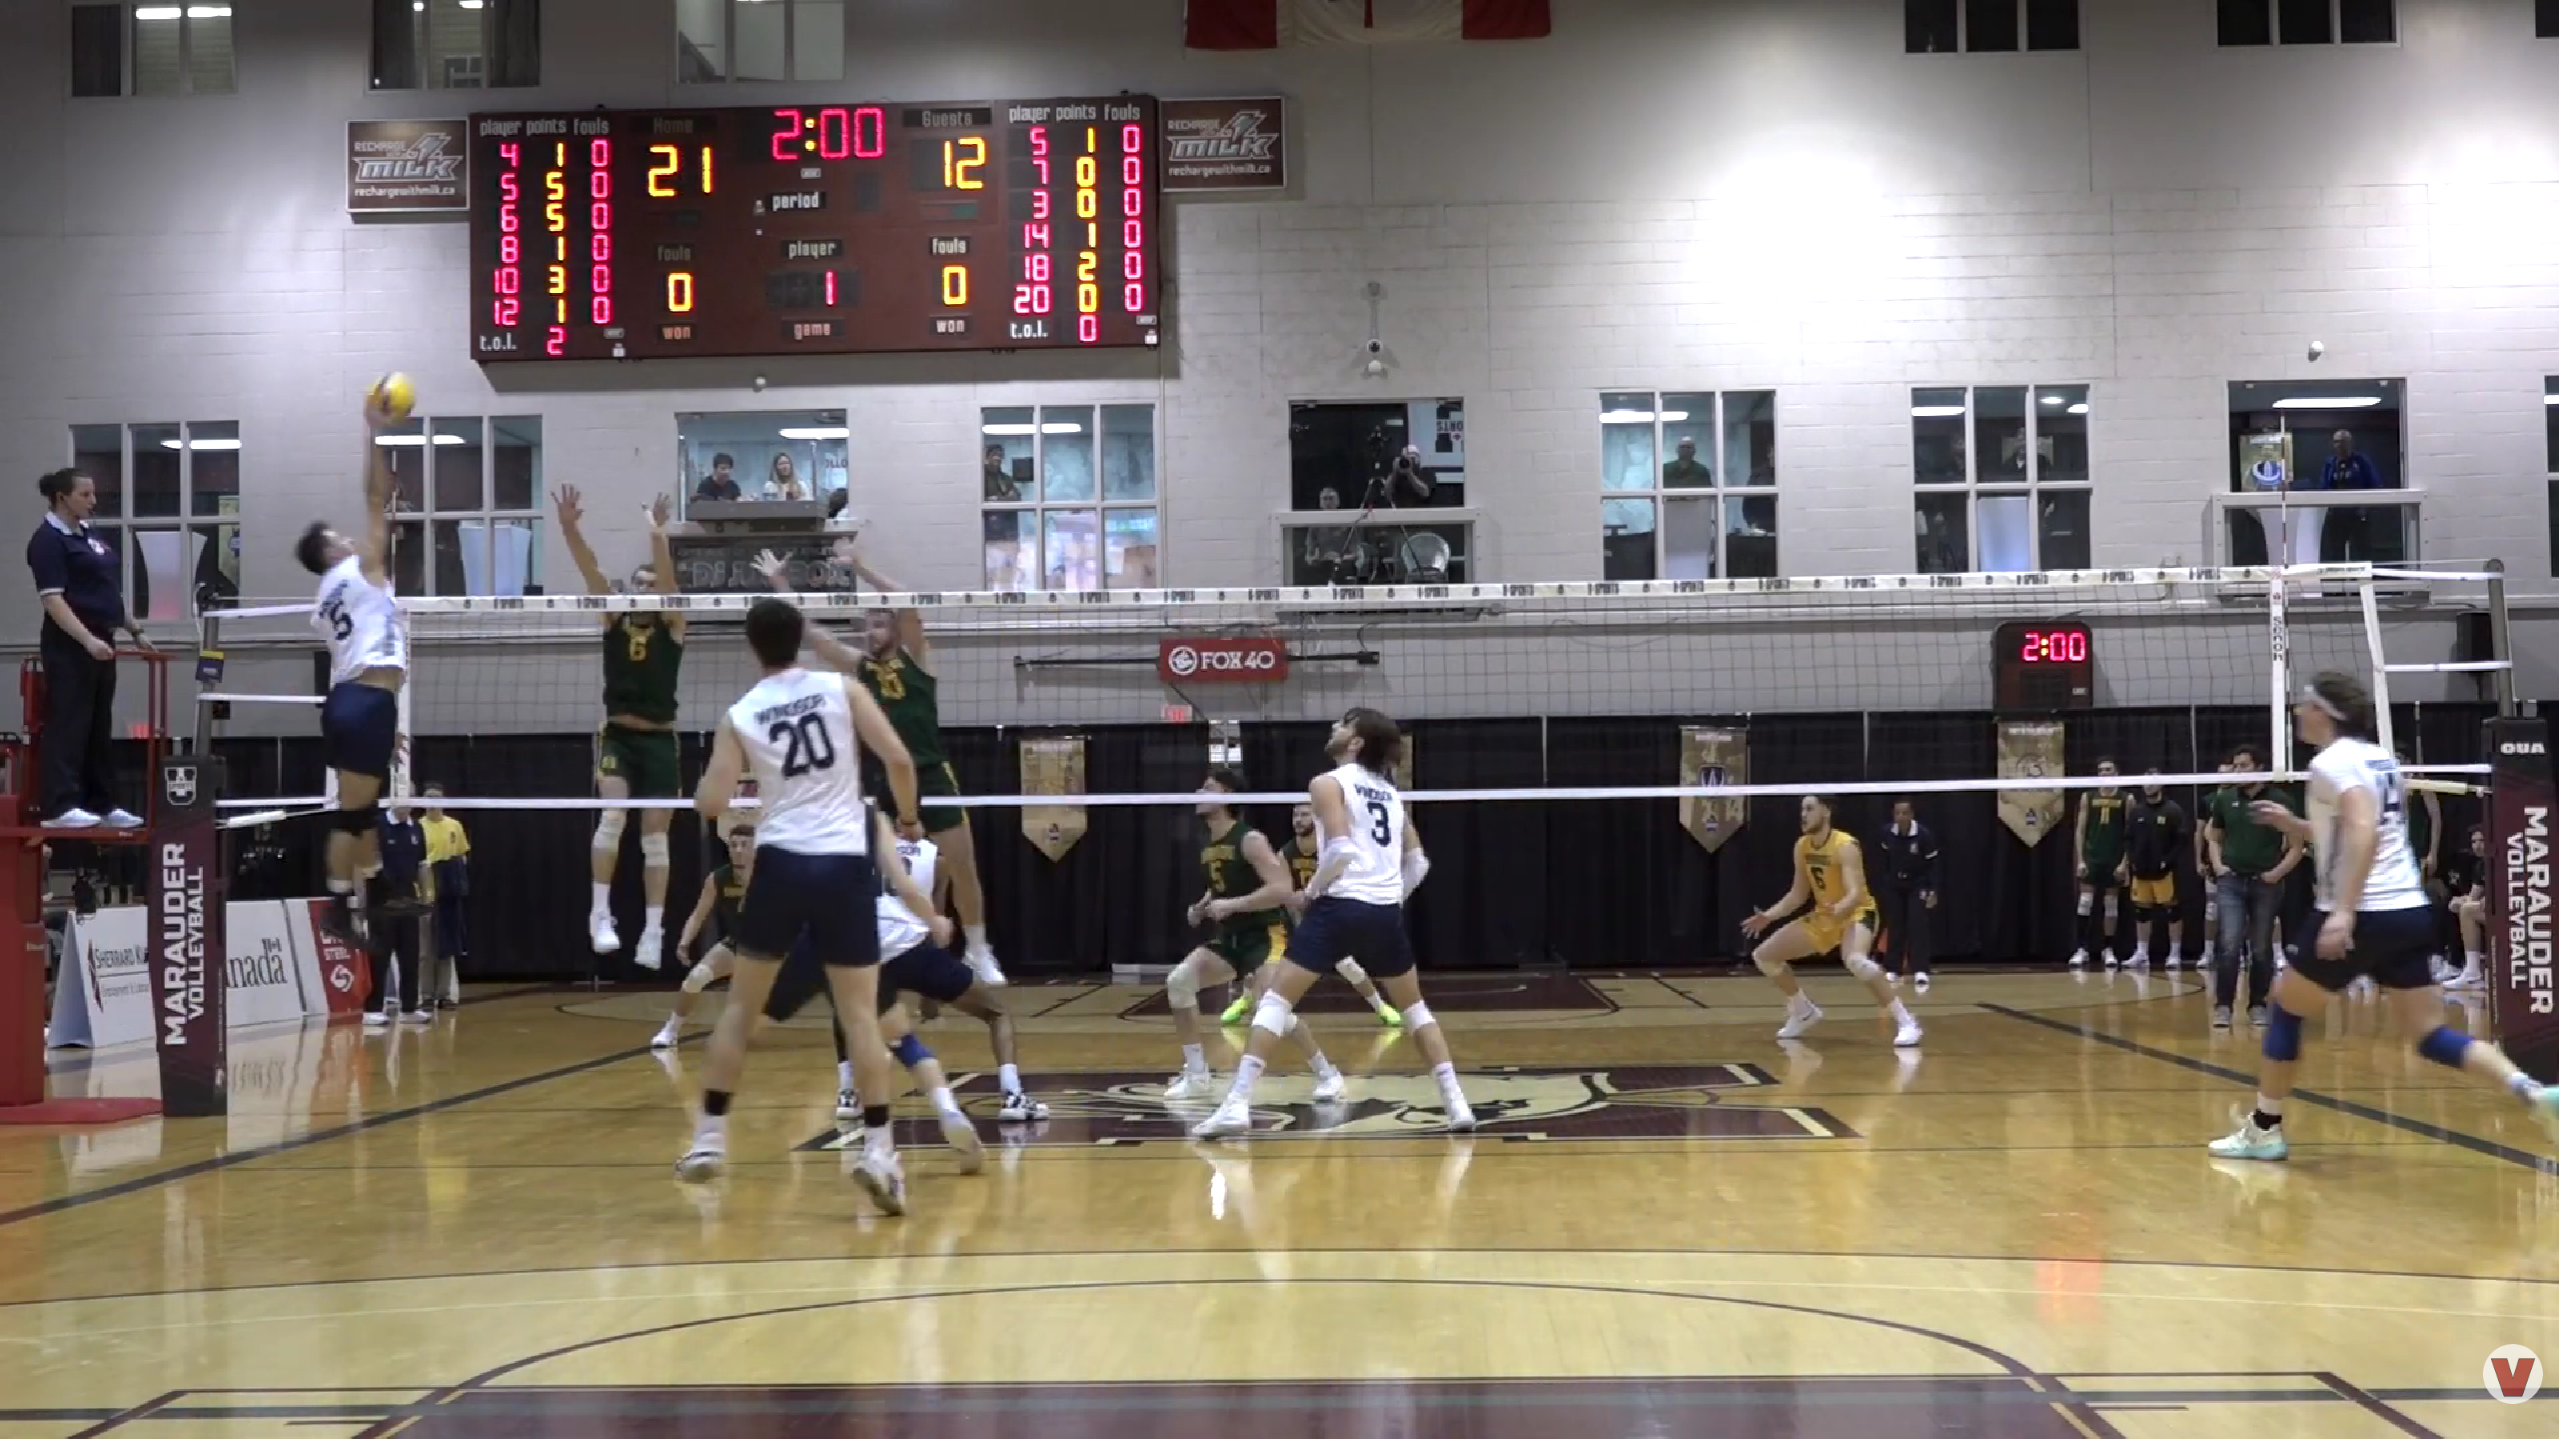Ball: (367, 372, 417, 422)
